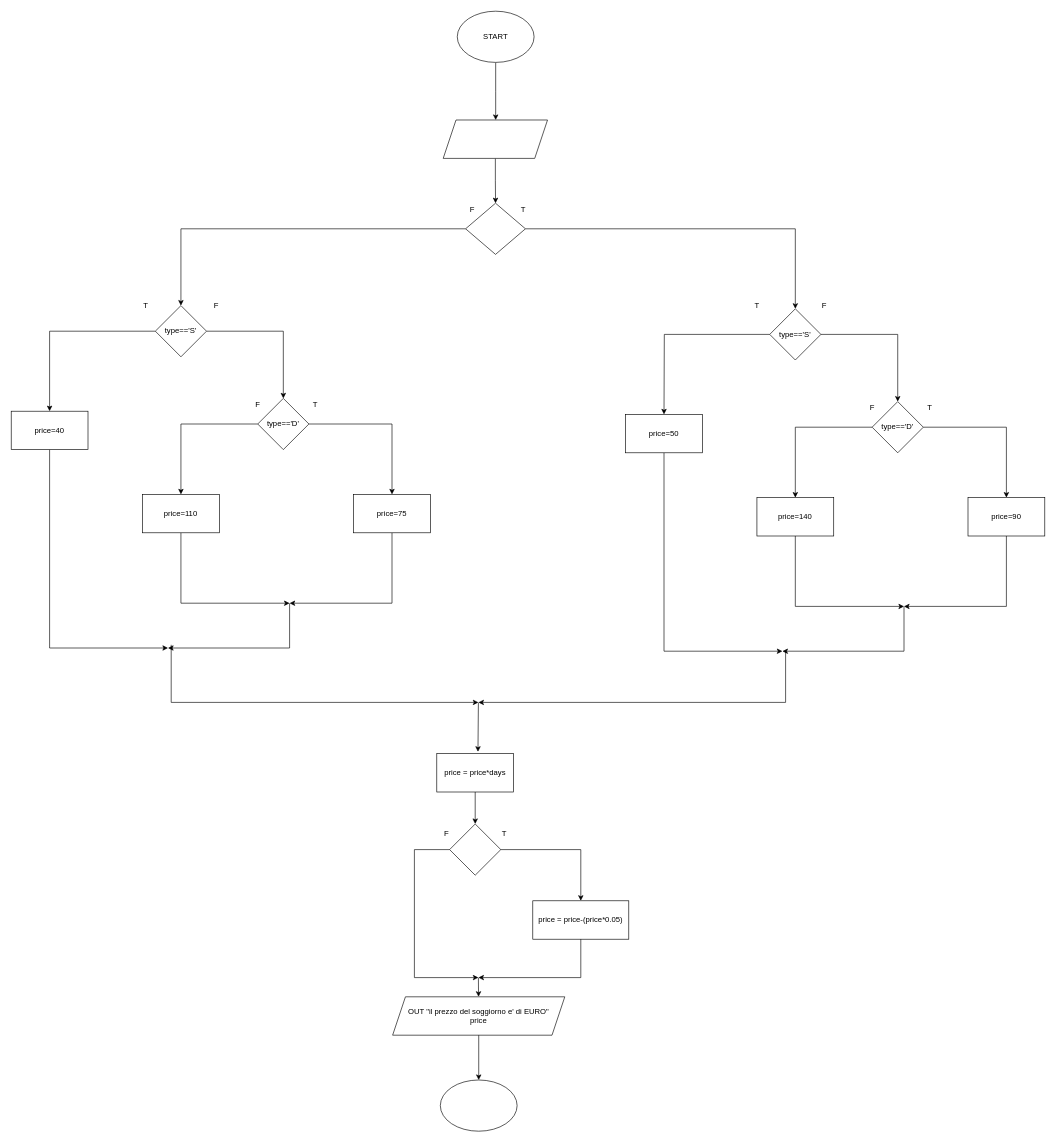
Image size: 1056x1142. Some labels were removed from this diagram. The box of each missing label's shape, as (x1, y1, x2, y2) in pixels:
days>7: (449, 823, 501, 875)
END: (440, 1079, 517, 1131)
I: period, type, days: (443, 119, 548, 158)
period=='A': (465, 203, 525, 254)
